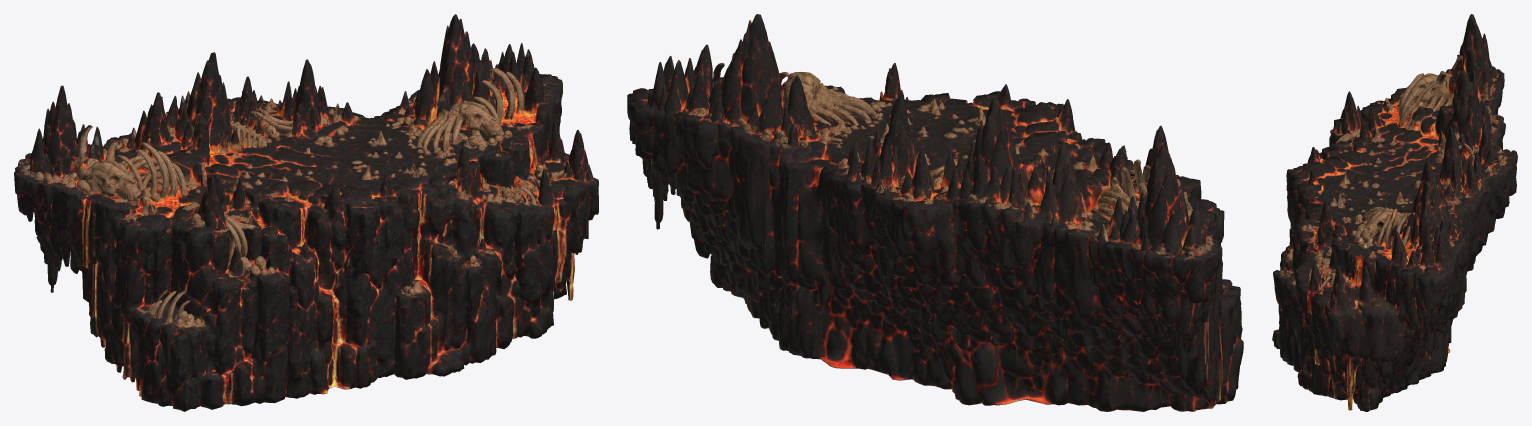
File: black_canyon_cliff.glb
3 renders of one model, left to right at view 1: azimuth 30°, elevation 25°; view 2: azimuth 150°, elevation 25°; view 3: azimuth 270°, elevation 25°, orthographic. The views are drawn at different scales.
Parts seen in each view (by area): view 1: Mesh_0; view 2: Mesh_0; view 3: Mesh_0.
Boxes of the visible parts, left/top/right/bottom form: Mesh_0: left=14, top=14, right=598, bottom=411; Mesh_0: left=627, top=14, right=1243, bottom=411; Mesh_0: left=1272, top=14, right=1517, bottom=411.
Bounding box in the file's own units: 1.9 × 0.9401 × 0.9444.
Materials: 1 (1 with a texture image).
